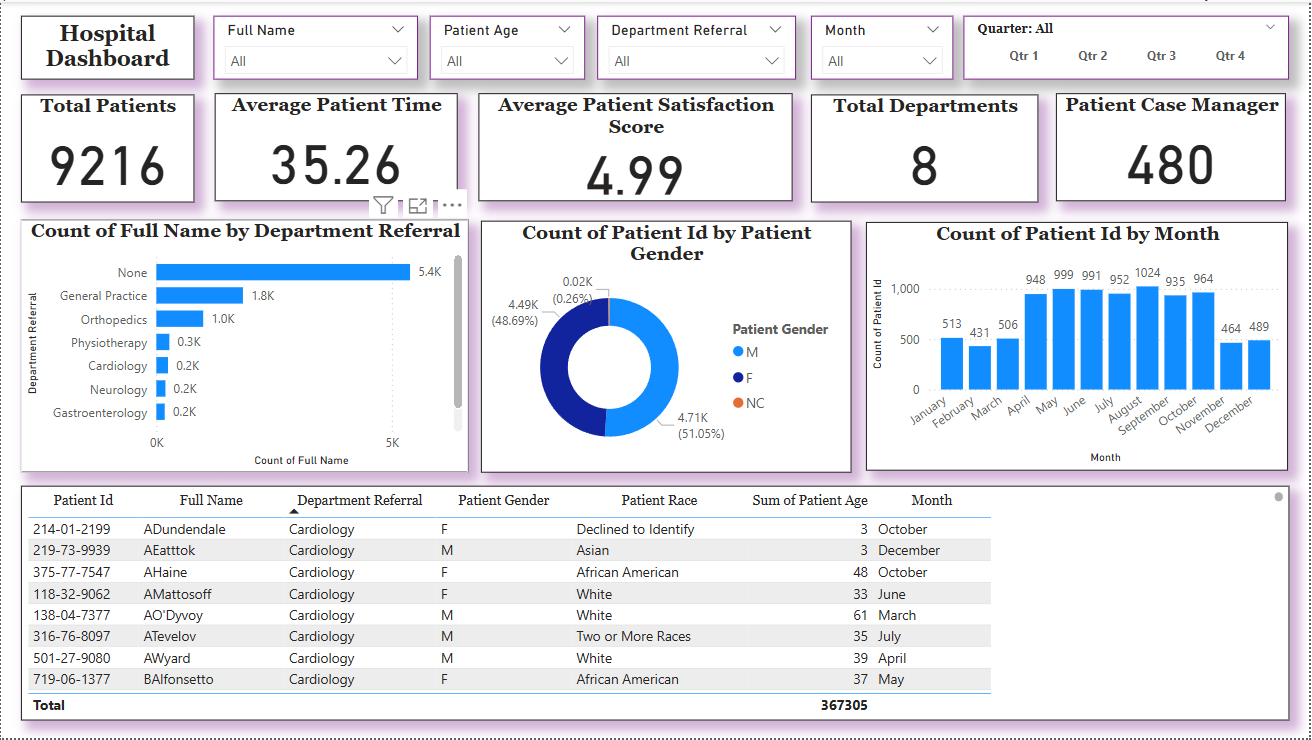

The dashboard page shown, as its layout file describes it:
{"tool":"powerbi","page":{"name":"Page 1","canvas":[1280,720],"ordinal":0},"visuals":[{"type":"textbox","box":[19.3,13.4,169.5,62.5],"z":0},{"type":"slicer","fields":{"Values":["Hospital ER_Data.Full Name"]},"box":[207.8,13.7,200.3,62.2],"z":1000},{"type":"slicer","fields":{"Values":["Hospital ER_Data.Patient Age"]},"box":[419.3,13.7,151.8,62.2],"z":2000},{"type":"slicer","fields":{"Values":["Hospital ER_Data.Department Referral"]},"box":[583.5,13.7,194.1,62.2],"z":3000},{"type":"slicer","fields":{"Values":["Hospital ER_Data.Patient Admission Date.Variation.Date Hierarchy.Month"]},"box":[792.5,13.7,139.3,62.2],"z":4000},{"type":"slicer","fields":{"Values":["Hospital ER_Data.Patient Admission Date.Variation.Date Hierarchy.Quarter"]},"box":[941.8,13.7,318.5,62.2],"z":5000},{"type":"card","title":"Total Patients","fields":{"Values":["Hospital ER_Data.Patient Id"]},"box":[19.9,90.8,169.2,105.8],"z":6000},{"type":"card","title":"Average Patient Time","fields":{"Values":["Hospital ER_Data.Patient Waittime"]},"box":[209,89.6,237.6,105.8],"z":7000},{"type":"card","title":"Total Departments","fields":{"Values":["Hospital ER_Data.Department Referral"]},"box":[792.5,90.8,222.7,105.8],"z":8000},{"type":"card","title":"Patient Case Manager","fields":{"Values":["Hospital ER_Data.Patients CM"]},"box":[1032.7,89.6,225.2,105.8],"z":9000},{"type":"card","title":"Average Patient Satisfaction Score","fields":{"Values":["Hospital ER_Data.Patient Satisfaction Score"]},"box":[466.6,89.6,307.3,105.8],"z":10000},{"type":"barChart","fields":{"Y":["Hospital ER_Data.Full Name"],"Category":["Hospital ER_Data.Department Referral"]},"box":[19.9,212.8,437.9,247.6],"z":11000},{"type":"donutChart","fields":{"Category":["Hospital ER_Data.Patient Gender"],"Y":["Hospital ER_Data.Patient Id"]},"box":[469.3,214,362,246],"z":12000},{"type":"columnChart","fields":{"Category":["Hospital ER_Data.Patient Admission Date.Variation.Date Hierarchy.Month"],"Y":["Hospital ER_Data.Patient Id"]},"box":[846.2,214.6,413.1,243.1],"z":13000},{"type":"tableEx","fields":{"Values":["Hospital ER_Data.Patient Id","Hospital ER_Data.Full Name","Hospital ER_Data.Department Referral","Hospital ER_Data.Patient Gender","Hospital ER_Data.Patient Race","Hospital ER_Data.Patient Age","Hospital ER_Data.Patient Admission Date.Variation.Date Hierarchy.Month"]},"box":[19.6,473.2,1241.2,229.9],"z":15000}]}

Visuals, with their boxes in screenshot pixels (x1, y1, x2, y2), scaled from the page's 1280x720 canvas onto the 1312x740 screenshot:
textbox: (20,14,194,78)
slicer - Hospital ER_Data.Full Name: (213,14,418,78)
slicer - Hospital ER_Data.Patient Age: (430,14,585,78)
slicer - Hospital ER_Data.Department Referral: (598,14,797,78)
slicer - Hospital ER_Data.Patient Admission Date.Variation.Date Hierarchy.Month: (812,14,955,78)
slicer - Hospital ER_Data.Patient Admission Date.Variation.Date Hierarchy.Quarter: (965,14,1292,78)
"Total Patients" card: (20,93,194,202)
"Average Patient Time" card: (214,92,458,201)
"Total Departments" card: (812,93,1041,202)
"Patient Case Manager" card: (1059,92,1289,201)
"Average Patient Satisfaction Score" card: (478,92,793,201)
barChart - Hospital ER_Data.Full Name x Hospital ER_Data.Department Referral: (20,219,469,473)
donutChart - Hospital ER_Data.Patient Gender x Hospital ER_Data.Patient Id: (481,220,852,473)
columnChart - Hospital ER_Data.Patient Admission Date.Variation.Date Hierarchy.Month x Hospital ER_Data.Patient Id: (867,221,1291,470)
tableEx - Hospital ER_Data.Patient Id x Hospital ER_Data.Full Name: (20,486,1292,723)
